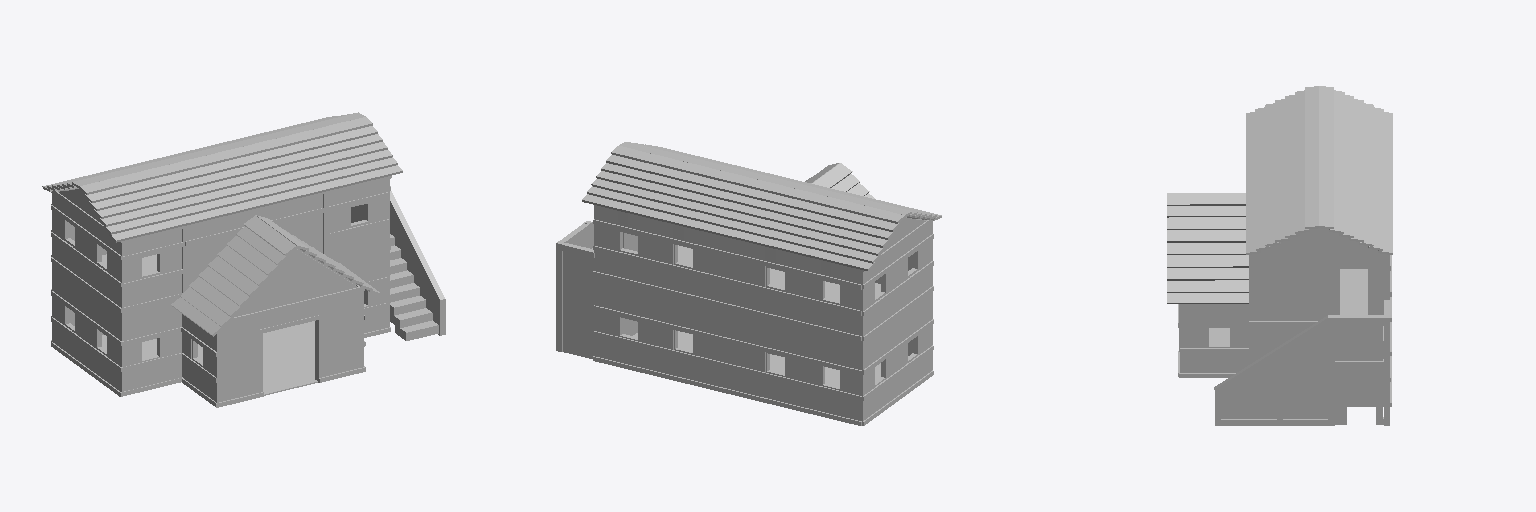
File: WoodHouse.obj
3 views of the same model, side by side, from view 1: azimuth 30°, elevation 25°; view 2: azimuth 150°, elevation 25°; view 3: azimuth 270°, elevation 25° (orthographic).
Parts seen in each view (by area): view 1: initialShadingGroup HOUSE2; view 2: initialShadingGroup HOUSE2; view 3: initialShadingGroup HOUSE2.
Part boxes in pixels (x1,y1,x2,y2): initialShadingGroup HOUSE2: (42,112,445,407); initialShadingGroup HOUSE2: (556,142,941,425); initialShadingGroup HOUSE2: (1167,86,1392,425).
Bounding box in the file's own units: 15.63 × 8.9 × 9.79.